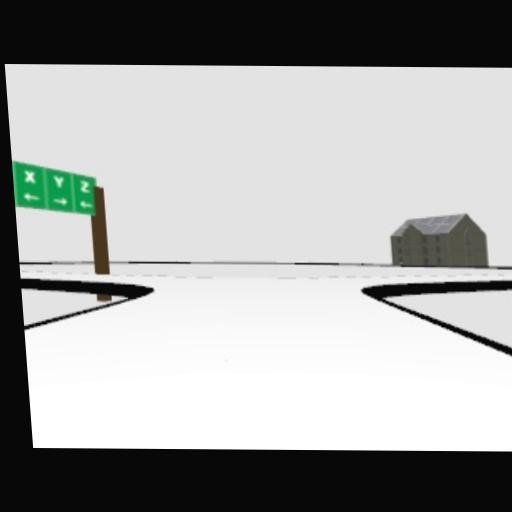Left: (24, 192, 42, 204), (79, 199, 93, 210)
Right: (52, 196, 70, 207)
X: (23, 169, 38, 185)
Y: (51, 175, 66, 190)
Z: (78, 179, 92, 194)
